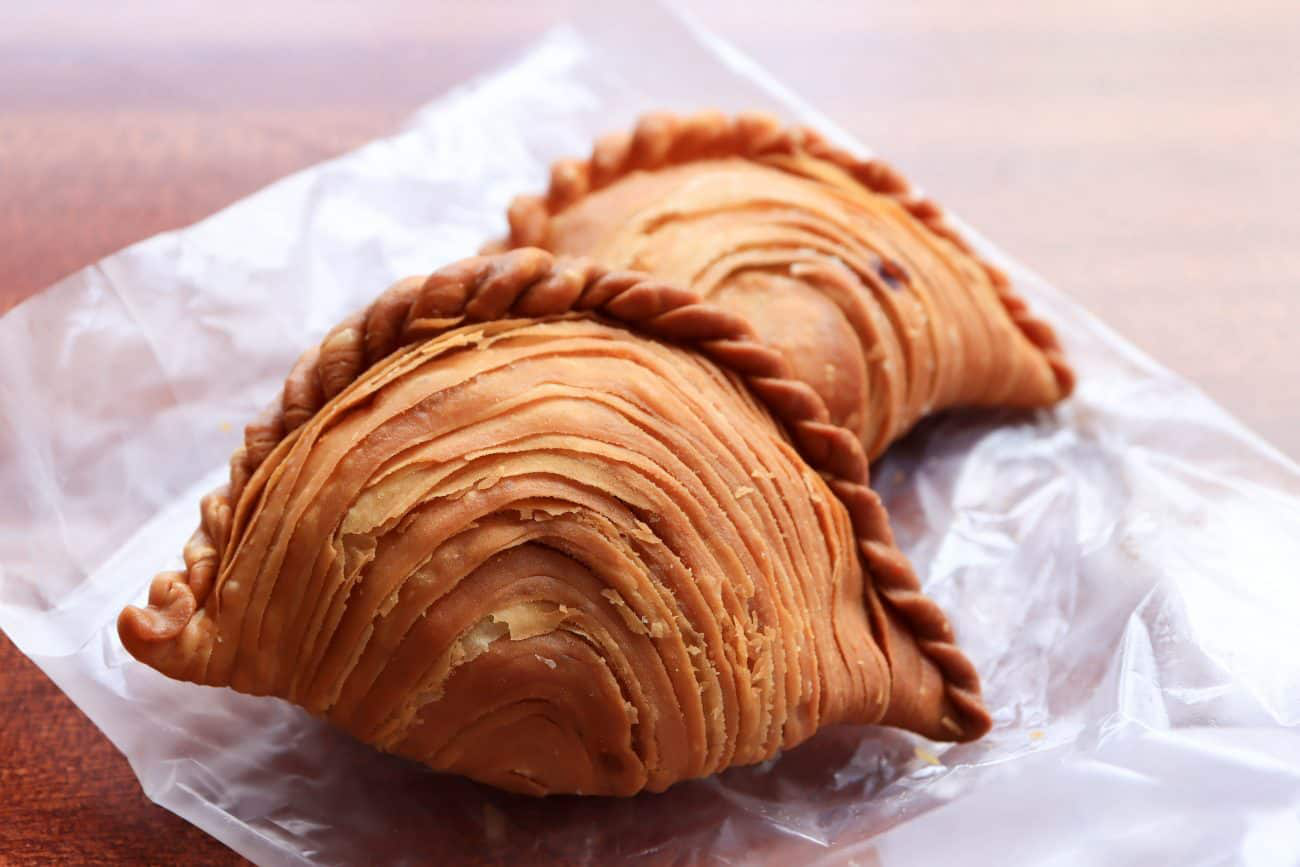Curry Puff: (127, 260, 1006, 781), (407, 94, 1088, 445)
